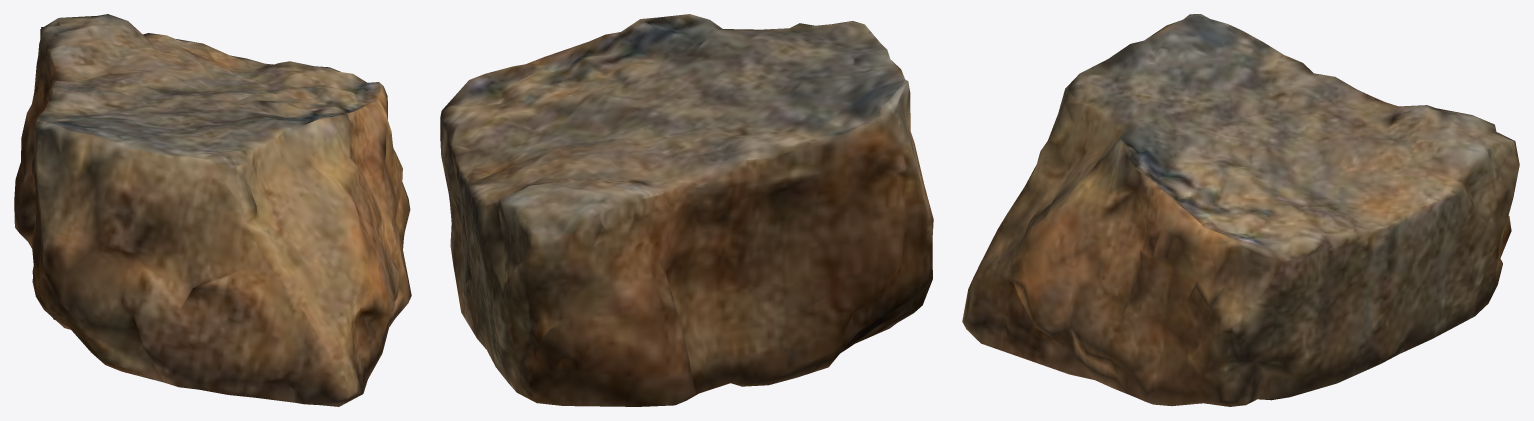
Rendered from boulder_03.glb.
3 views of the same model, side by side, from view 1: azimuth 30°, elevation 25°; view 2: azimuth 150°, elevation 25°; view 3: azimuth 270°, elevation 25° (orthographic). The views are drawn at different scales.
Parts seen in each view (by area): view 1: boulder_03_LOD0; view 2: boulder_03_LOD0; view 3: boulder_03_LOD0.
Boxes of the visible parts, left/top/right/bottom form: boulder_03_LOD0: left=14, top=14, right=411, bottom=406; boulder_03_LOD0: left=440, top=14, right=933, bottom=406; boulder_03_LOD0: left=962, top=14, right=1519, bottom=406.
Size of the model in its own units: 2.4 by 1.47 by 3.07.
Materials: 1 (1 with a texture image).
